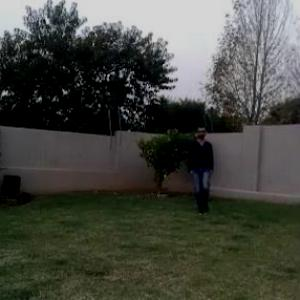follow: (188, 125, 214, 213)
